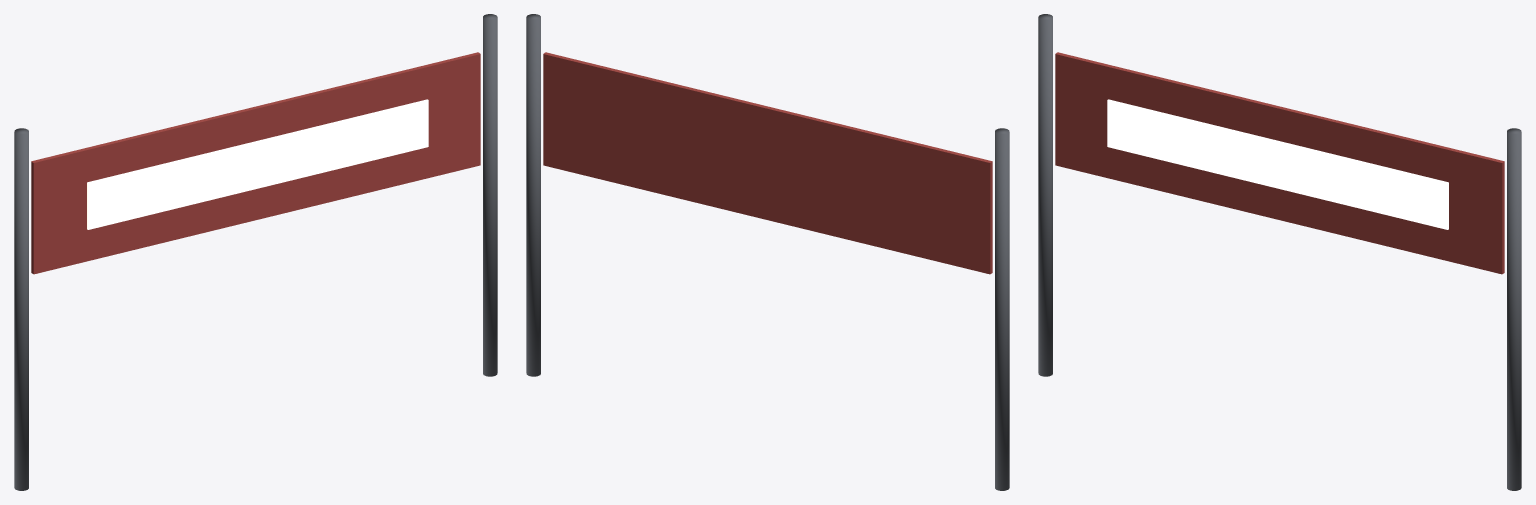
File: prop_yokodanmaku.glb
The picture shows the model from 3 angles, left to right: view 1: azimuth 30°, elevation 25°; view 2: azimuth 150°, elevation 25°; view 3: azimuth 330°, elevation 25°; orthographic projection.
Visible parts, largest first — view 1: yokodanmaku; view 2: yokodanmaku; view 3: yokodanmaku.
Part boxes in pixels (bbox=[...]): yokodanmaku: bbox=[14, 14, 497, 490]; yokodanmaku: bbox=[526, 14, 1009, 490]; yokodanmaku: bbox=[1038, 14, 1521, 490].
Size of the model in its own units: 4.52 by 3.2 by 0.12.
